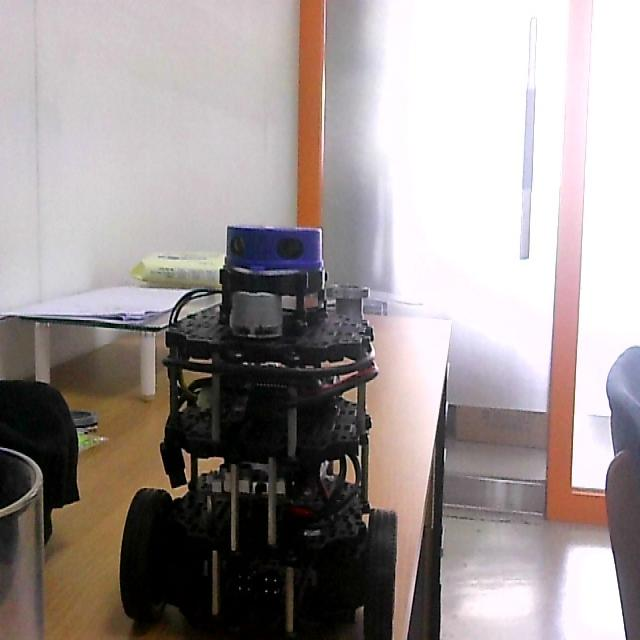turtle: (118, 222, 399, 640)
